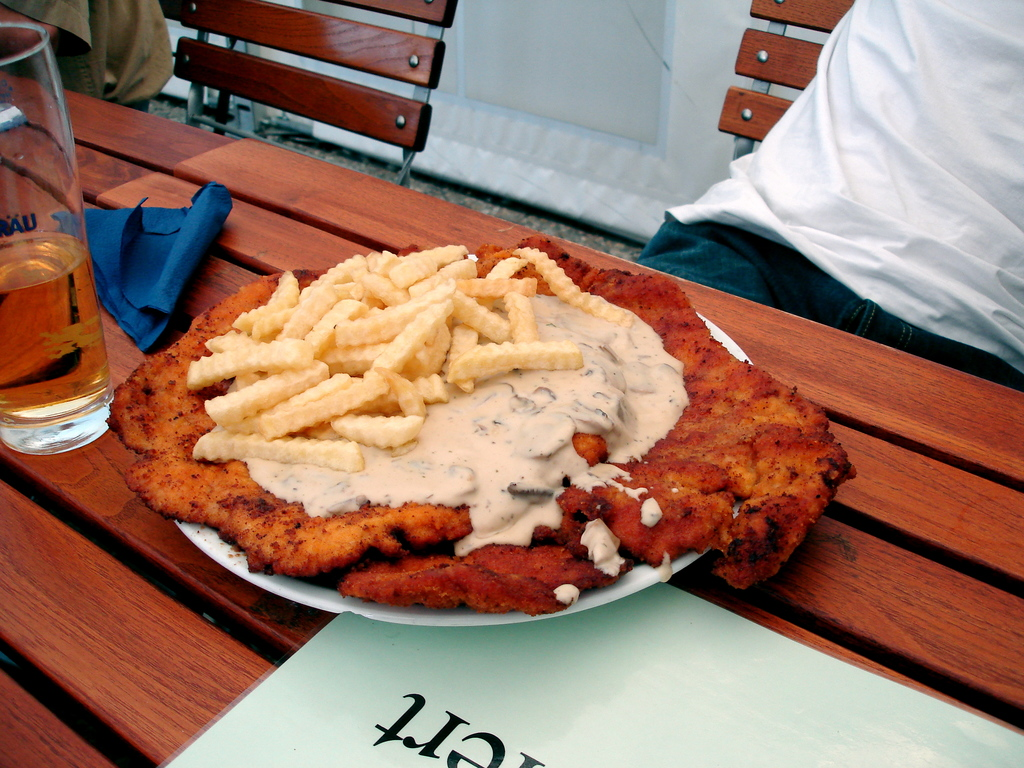French fries: (179, 233, 639, 477)
